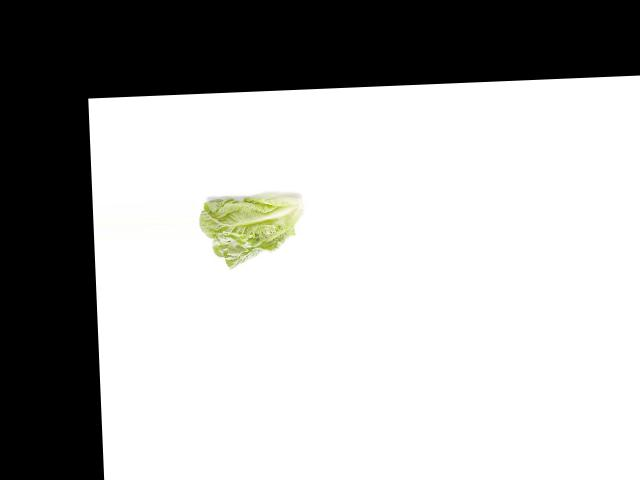lettuce: (197, 177, 311, 270)
